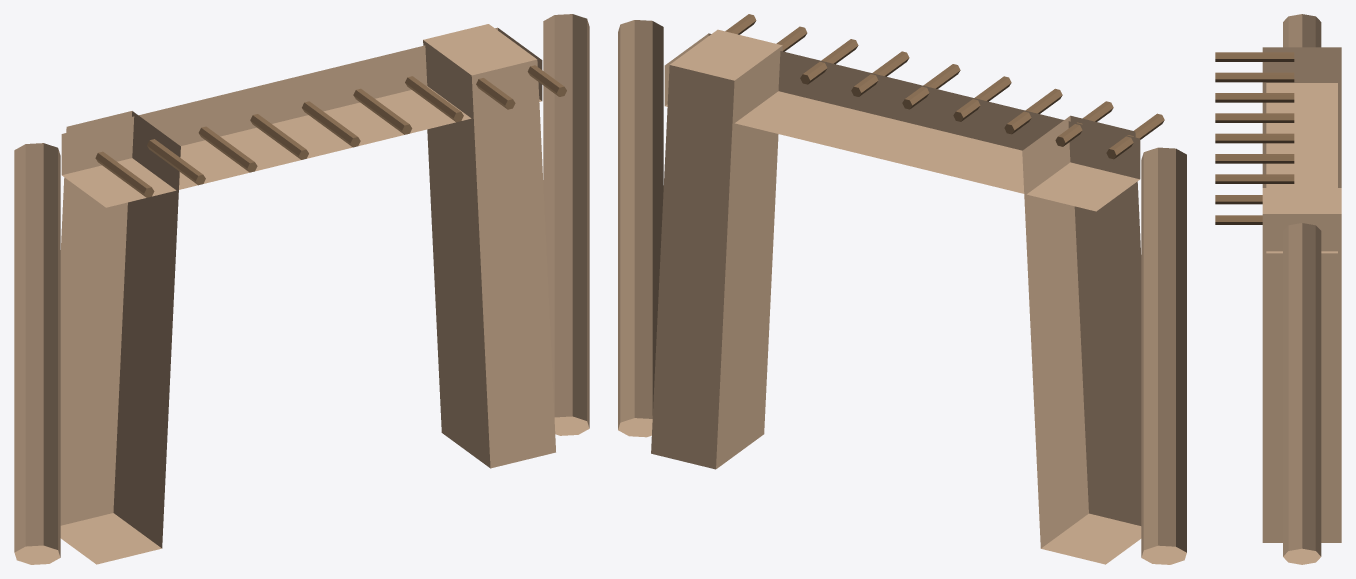
The model's file is djenne_banco_portal.glb.
3 renders of one model, left to right at view 1: azimuth 30°, elevation 25°; view 2: azimuth 150°, elevation 25°; view 3: azimuth 270°, elevation 25°, orthographic. The views are drawn at different scales.
Parts seen in each view (by area): view 1: djenne_banco_portal; view 2: djenne_banco_portal; view 3: djenne_banco_portal.
Part boxes in pixels (<box>): djenne_banco_portal: <box>14,14,589,564</box>; djenne_banco_portal: <box>618,14,1186,564</box>; djenne_banco_portal: <box>1215,14,1341,564</box>.
Size of the model in its own units: 6.08 by 4.1 by 1.44.
